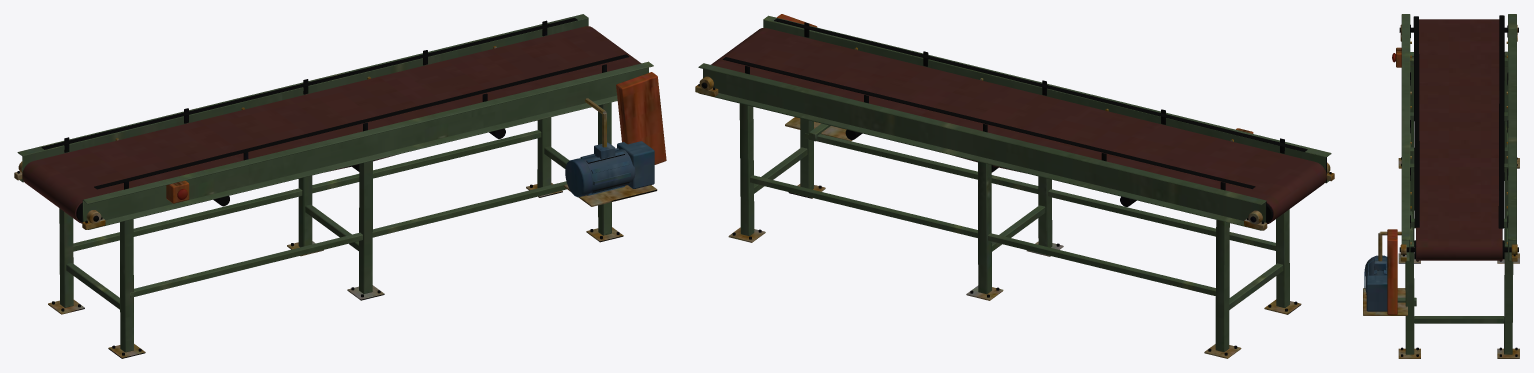
File: conveyor.glb
The picture shows the model from 3 angles, left to right: view 1: azimuth 30°, elevation 25°; view 2: azimuth 150°, elevation 25°; view 3: azimuth 270°, elevation 25°; orthographic projection. The views are drawn at different scales.
Visible parts, largest first — view 1: conveyor; view 2: conveyor; view 3: conveyor.
Boxes of the visible parts, bbox=[...] form: conveyor: bbox=[14, 14, 666, 358]; conveyor: bbox=[695, 14, 1334, 358]; conveyor: bbox=[1363, 14, 1519, 358].
Size of the model in its own units: 3.12 by 0.8805 by 0.905.
Materials: 1 (1 with a texture image).
